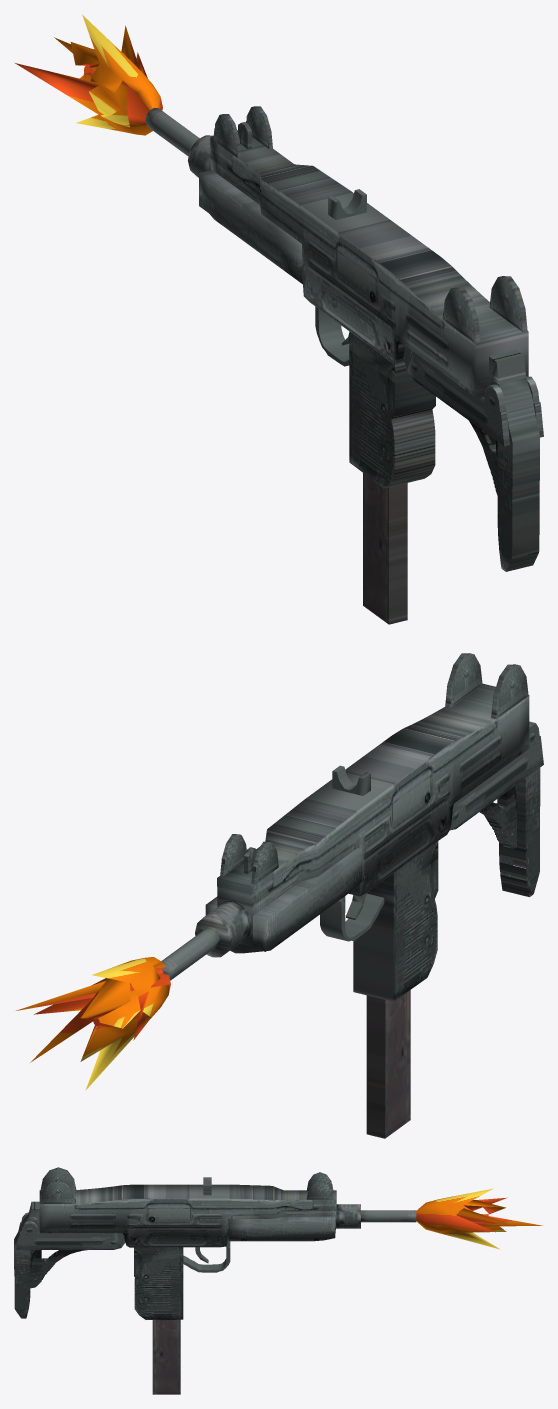
Rendered from uzi_fire.fbx.
The picture shows the model from 3 angles, top to bottom: view 1: azimuth 30°, elevation 25°; view 2: azimuth 150°, elevation 25°; view 3: azimuth 270°, elevation 25°; orthographic projection. The views are drawn at different scales.
Visible parts, largest first — view 1: uzi_body, uzi_grip, uzi_pad, flash, uzi_clip, uzi_frontgrip, uzi_stocksupport, uzi_barrel, uzi_frontsight, uzi_trigger, uzi_bolt; view 2: uzi_body, uzi_grip, flash, uzi_clip, uzi_frontgrip, uzi_pad, uzi_barrel, uzi_stocksupport, uzi_trigger, uzi_frontsight, uzi_stockframe, uzi_bolt; view 3: uzi_body, uzi_grip, flash, uzi_frontgrip, uzi_clip, uzi_stocksupport, uzi_pad, uzi_barrel, uzi_stockframe, uzi_frontsight, uzi_trigger.
Part boxes in pixels (left/top/right/bottom): uzi_body: left=210, top=130, right=528, bottom=398; uzi_grip: left=349, top=331, right=435, bottom=488; uzi_pad: left=489, top=350, right=539, bottom=571; flash: left=15, top=14, right=162, bottom=135; uzi_clip: left=363, top=473, right=407, bottom=624; uzi_frontgrip: left=199, top=169, right=302, bottom=284; uzi_stocksupport: left=403, top=346, right=543, bottom=446; uzi_barrel: left=145, top=108, right=213, bottom=177; uzi_frontsight: left=213, top=106, right=272, bottom=157; uzi_trigger: left=315, top=306, right=349, bottom=366; uzi_bolt: left=328, top=189, right=366, bottom=219; uzi_body: left=217, top=653, right=529, bottom=946; uzi_grip: left=353, top=841, right=438, bottom=1001; flash: left=16, top=957, right=170, bottom=1090; uzi_clip: left=366, top=990, right=410, bottom=1138; uzi_frontgrip: left=205, top=847, right=362, bottom=953; uzi_pad: left=499, top=768, right=540, bottom=897; uzi_barrel: left=161, top=900, right=252, bottom=980; uzi_stocksupport: left=449, top=721, right=543, bottom=830; uzi_trigger: left=320, top=893, right=384, bottom=941; uzi_frontsight: left=220, top=834, right=278, bottom=884; uzi_stockframe: left=479, top=785, right=516, bottom=848; uzi_bolt: left=332, top=765, right=370, bottom=795; uzi_body: left=39, top=1167, right=336, bottom=1247; uzi_grip: left=134, top=1247, right=183, bottom=1319; flash: left=416, top=1188, right=543, bottom=1249; uzi_frontgrip: left=228, top=1216, right=335, bottom=1241; uzi_clip: left=152, top=1319, right=180, bottom=1394; uzi_stocksupport: left=16, top=1212, right=125, bottom=1249; uzi_pad: left=14, top=1201, right=39, bottom=1318; uzi_barrel: left=335, top=1204, right=416, bottom=1228; uzi_stockframe: left=30, top=1250, right=86, bottom=1288; uzi_frontsight: left=306, top=1172, right=333, bottom=1199; uzi_trigger: left=183, top=1236, right=230, bottom=1272.
Bounding box in the file's own units: 4.14 × 13.68 × 30.13.
2 materials, 2 textured.
